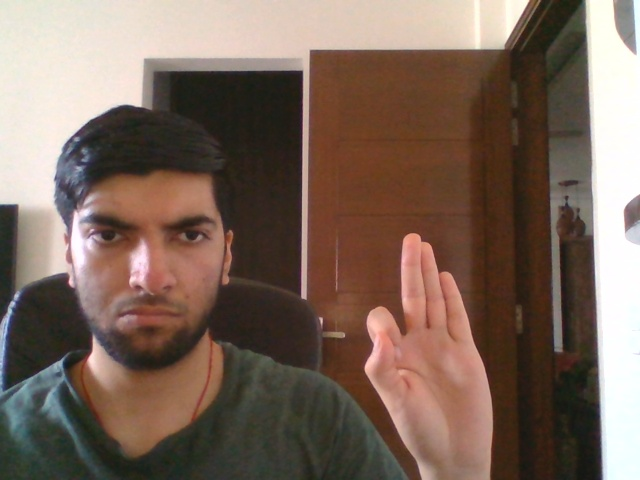LetterF: (363, 231, 495, 471)
